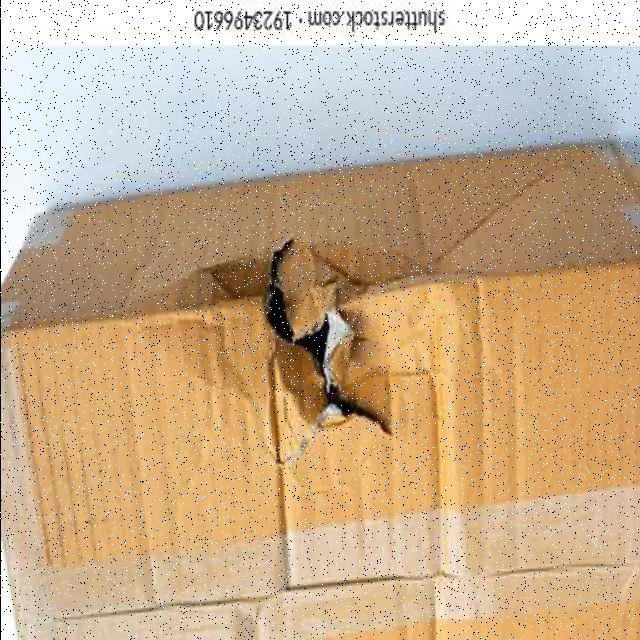defect: (4, 145, 639, 639)
